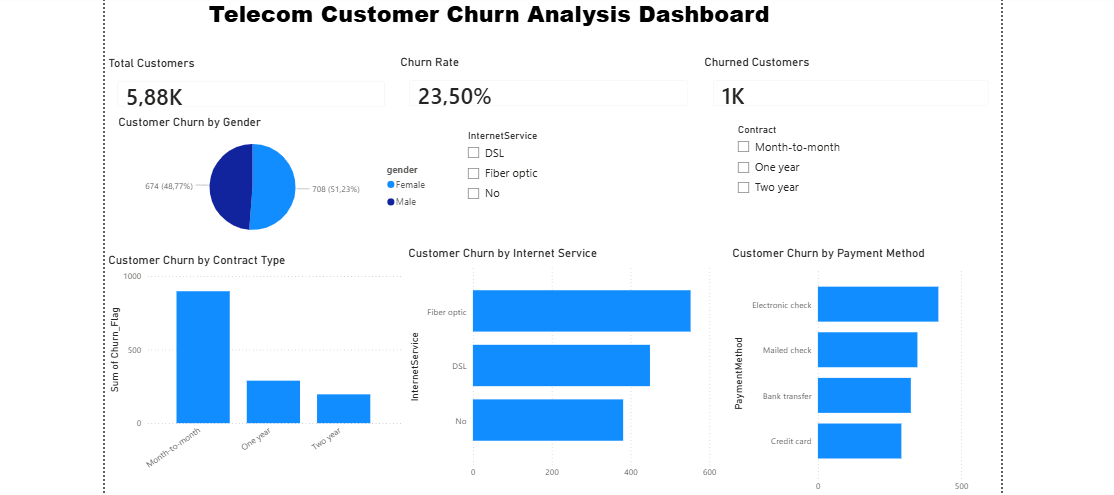

Layout of this report page (visuals, bound fields, positions):
{"tool":"powerbi","page":{"name":"Page 1","canvas":[1280,720],"ordinal":0},"visuals":[{"type":"cardVisual","title":"Total Customers","fields":{"Data":["CountNonNull(churn_powerbi.customerID)"]},"box":[0,89.2,417.6,90.5],"z":0},{"type":"cardVisual","title":"Churned Customers","fields":{"Data":["Sum(churn_powerbi.Churn_Flag)"]},"box":[851.7,86.7,428.3,90],"z":1},{"type":"cardVisual","title":"Churn Rate","fields":{"Data":["churn_powerbi.churn Rate"]},"box":[417.6,86.5,433.8,90.5],"z":2},{"type":"clusteredColumnChart","title":"Customer Churn by Contract Type","fields":{"Category":["churn_powerbi.Contract"],"Y":["Sum(churn_powerbi.Churn_Flag)"]},"box":[0,370.3,428.4,331.1],"z":3},{"type":"pieChart","title":"Customer Churn by Gender","fields":{"Category":["churn_powerbi.gender"],"Y":["Sum(churn_powerbi.Churn_Flag)"]},"box":[14.9,173,458.1,186.5],"z":4},{"type":"clusteredBarChart","title":"Customer Churn by Internet Service","fields":{"Category":["churn_powerbi.InternetService"],"Y":["Sum(churn_powerbi.Churn_Flag)"]},"box":[428.3,360,450,341.7],"z":5},{"type":"clusteredBarChart","title":"Customer Churn by Payment Method","fields":{"Category":["churn_powerbi.PaymentMethod"],"Y":["Sum(churn_powerbi.Churn_Flag)"]},"box":[891.9,359.5,387.8,360.8],"z":6},{"type":"slicer","fields":{"Values":["churn_powerbi.Contract"]},"box":[891.9,179.7,360.8,141.9],"z":7},{"type":"slicer","fields":{"Values":["churn_powerbi.InternetService"]},"box":[505.4,189.2,320.3,141.9],"z":8},{"type":"textbox","box":[143.2,0,812.2,86.5],"z":9}]}

Visuals, with their boxes on the page's 1280x720 design canvas (x1, y1, x2, y2). These are canvas units, not pixel positions in the 1114x495 screenshot, which may show the page scaled, cropped or inside an application window:
"Total Customers" cardVisual: pyautogui.locateOnScreen(0, 89, 418, 180)
"Churned Customers" cardVisual: pyautogui.locateOnScreen(852, 87, 1280, 177)
"Churn Rate" cardVisual: pyautogui.locateOnScreen(418, 86, 851, 177)
"Customer Churn by Contract Type" clusteredColumnChart: pyautogui.locateOnScreen(0, 370, 428, 701)
"Customer Churn by Gender" pieChart: pyautogui.locateOnScreen(15, 173, 473, 360)
"Customer Churn by Internet Service" clusteredBarChart: pyautogui.locateOnScreen(428, 360, 878, 702)
"Customer Churn by Payment Method" clusteredBarChart: pyautogui.locateOnScreen(892, 360, 1280, 720)
slicer - churn_powerbi.Contract: pyautogui.locateOnScreen(892, 180, 1253, 322)
slicer - churn_powerbi.InternetService: pyautogui.locateOnScreen(505, 189, 826, 331)
textbox: pyautogui.locateOnScreen(143, 0, 955, 86)
